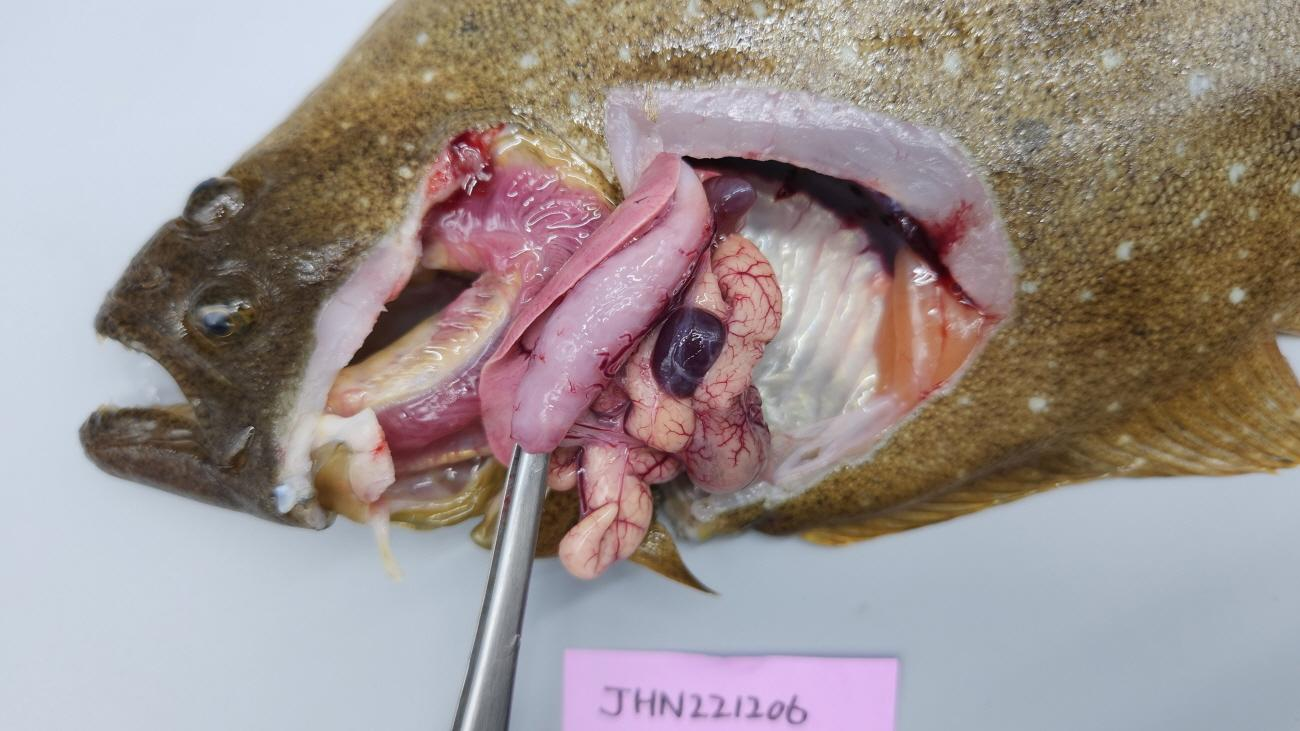POINN: (621, 233, 785, 492)
POSPN: (650, 308, 725, 398)
